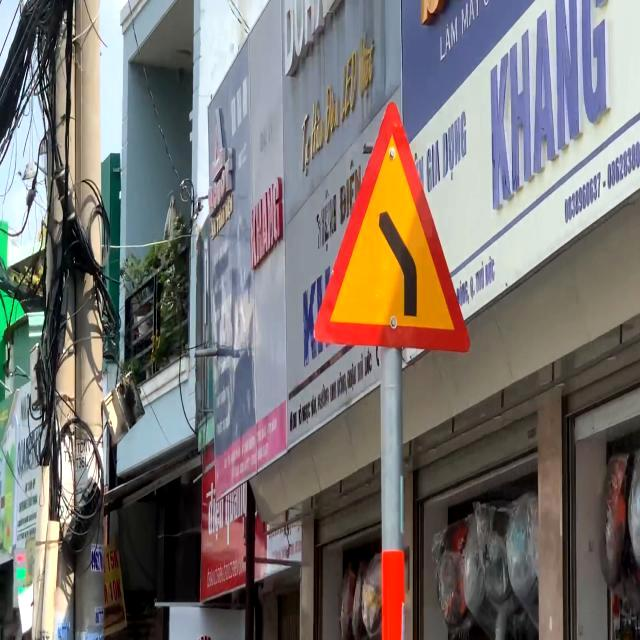cho ngoat nguy hiem vong ben trai: (312, 98, 472, 356)
